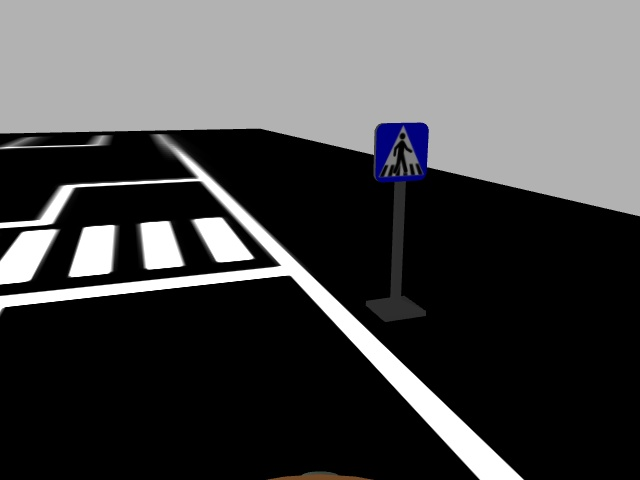crosswalk: (371, 120, 430, 184)
